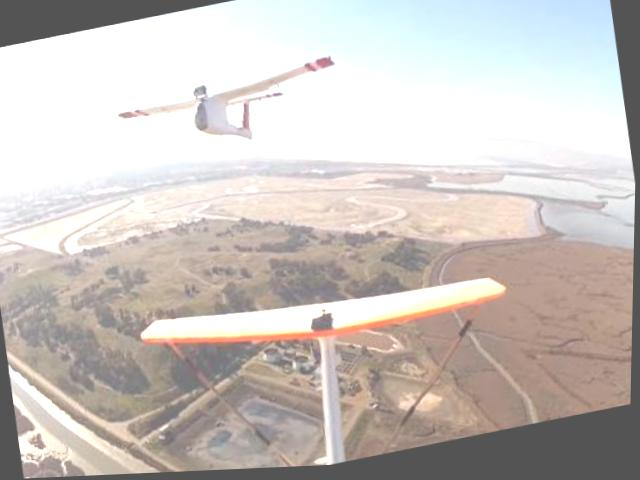uav: (109, 45, 349, 177)
